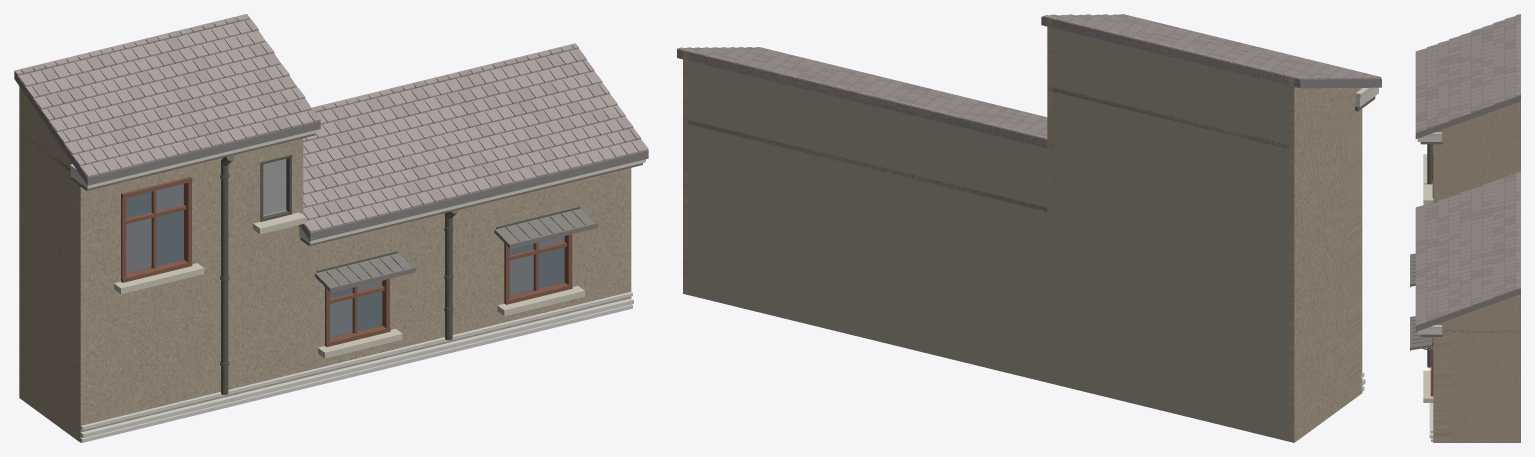
File: taiyuan-lane-50-near.glb
3 views of the same model, side by side, from view 1: azimuth 30°, elevation 25°; view 2: azimuth 150°, elevation 25°; view 3: azimuth 270°, elevation 25° (orthographic). The views are drawn at different scales.
Parts seen in each view (by area): view 1: 太原路50弄并立式住宅东立面落檐双窗; view 2: 太原路50弄并立式住宅东立面落檐双窗; view 3: 太原路50弄并立式住宅东立面落檐双窗.
Part boxes in pixels (x1=…): 太原路50弄并立式住宅东立面落檐双窗: x1=14, y1=14, x2=648, y2=442; 太原路50弄并立式住宅东立面落檐双窗: x1=677, y1=14, x2=1381, y2=442; 太原路50弄并立式住宅东立面落檐双窗: x1=1410, y1=14, x2=1520, y2=442.
Bounding box in the file's own units: 7.93 × 4.44 × 1.9.
14 materials, 1 textured.
